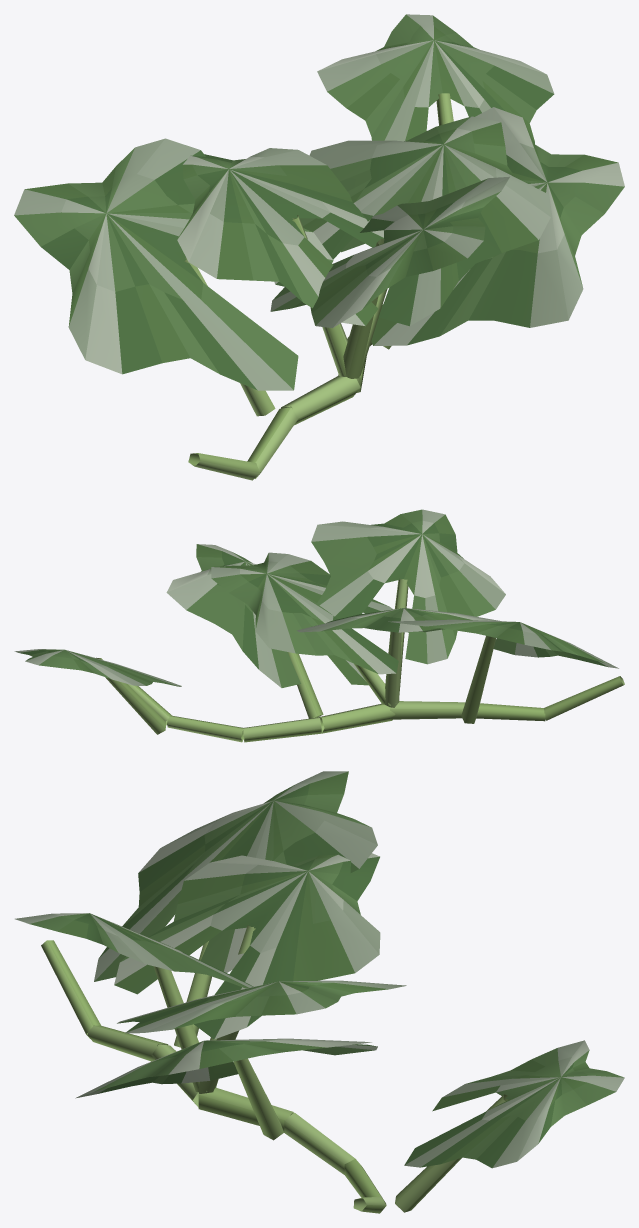
The model's file is courge_jeune.glb.
3 views of the same model, one above another, from view 1: azimuth 30°, elevation 25°; view 2: azimuth 150°, elevation 25°; view 3: azimuth 270°, elevation 25° (orthographic). The views are drawn at different scales.
Parts seen in each view (by area): view 1: Courge_Feuilles, Courge_Tiges; view 2: Courge_Feuilles, Courge_Tiges; view 3: Courge_Feuilles, Courge_Tiges.
Boxes of the visible parts, left/top/right/bottom form: Courge_Feuilles: left=14, top=14, right=624, bottom=390; Courge_Tiges: left=184, top=93, right=453, bottom=480; Courge_Feuilles: left=14, top=509, right=618, bottom=687; Courge_Tiges: left=96, top=579, right=624, bottom=742; Courge_Feuilles: left=15, top=771, right=624, bottom=1168; Courge_Tiges: left=41, top=925, right=507, bottom=1213.
Bounding box in the file's own units: 0.598 × 0.2011 × 0.4952.
